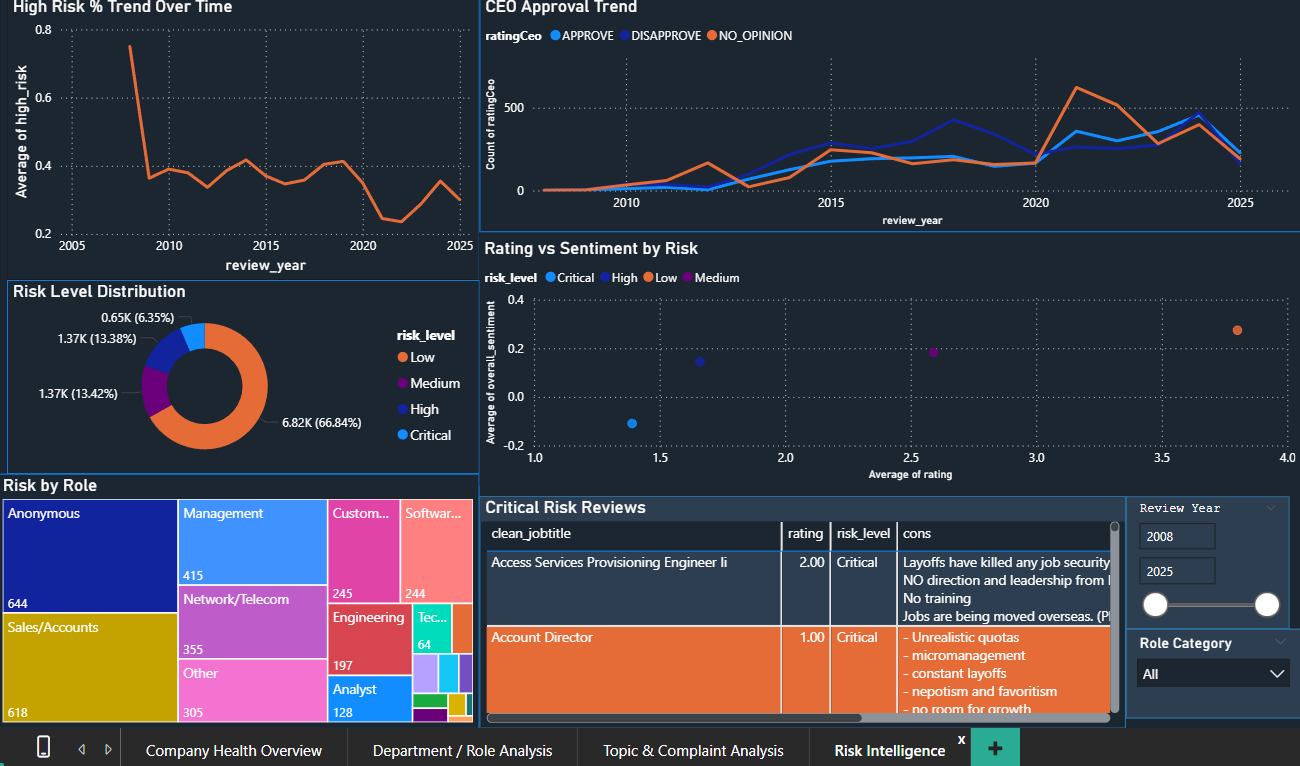

This screenshot's page, from the dashboard's own definition file:
{"tool":"powerbi","page":{"name":"Risk Intelligence","canvas":[1280,720],"ordinal":3},"visuals":[{"type":"lineChart","title":"High Risk % Trend Over Time ","fields":{"Category":["glassdoor_cleaned_for_powerbi.review_year"],"Y":["Avg(glassdoor_cleaned_for_powerbi.high_risk)"]},"box":[9.8,0,463.8,279.8],"z":0},{"type":"donutChart","title":"Risk Level Distribution","fields":{"Category":["glassdoor_cleaned_for_powerbi.risk_level"],"Y":["CountNonNull(glassdoor_cleaned_for_powerbi.risk_level)"]},"box":[9.8,279.8,463.8,190.2],"z":1000},{"type":"treemap","title":"Risk by Role","fields":{"Group":["glassdoor_cleaned_for_powerbi.role_category"],"Values":["Sum(glassdoor_cleaned_for_powerbi.high_risk)"]},"box":[0,469.9,473.6,250.3],"z":2000},{"type":"scatterChart","title":"Rating vs Sentiment by Risk","fields":{"X":["Avg(glassdoor_cleaned_for_powerbi.rating)"],"Y":["Avg(glassdoor_cleaned_for_powerbi.overall_sentiment)"],"Series":["glassdoor_cleaned_for_powerbi.risk_level"]},"box":[473.6,238,806.1,244.2],"z":3000},{"type":"lineChart","title":"CEO Approval Trend","fields":{"Category":["glassdoor_cleaned_for_powerbi.review_year"],"Y":["CountNonNull(glassdoor_cleaned_for_powerbi.ratingCeo)"],"Series":["glassdoor_cleaned_for_powerbi.ratingCeo"]},"box":[473.6,0,806.1,233.1],"z":3001},{"type":"tableEx","title":"Critical Risk Reviews","fields":{"Values":["glassdoor_cleaned_for_powerbi.clean_jobtitle","glassdoor_cleaned_for_powerbi.rating","glassdoor_cleaned_for_powerbi.risk_level","glassdoor_cleaned_for_powerbi.cons"]},"box":[473.6,492,634.4,228.2],"z":3002},{"type":"slicer","fields":{"Values":["glassdoor_cleaned_for_powerbi.review_year"]},"box":[1108,492,160.7,130.1],"z":3003},{"type":"slicer","fields":{"Values":["glassdoor_cleaned_for_powerbi.role_category"]},"box":[1108,622.1,171.8,88.3],"z":3004}]}

Visuals, with their boxes on the page's 1280x720 design canvas (x1, y1, x2, y2). These are canvas units, not pixel positions in the 1300x766 screenshot, which may show the page scaled, cropped or inside an application window:
"High Risk % Trend Over Time " lineChart: <box>10,0,474,280</box>
"Risk Level Distribution" donutChart: <box>10,280,474,470</box>
"Risk by Role" treemap: <box>0,470,474,720</box>
"Rating vs Sentiment by Risk" scatterChart: <box>474,238,1280,482</box>
"CEO Approval Trend" lineChart: <box>474,0,1280,233</box>
"Critical Risk Reviews" tableEx: <box>474,492,1108,720</box>
slicer - glassdoor_cleaned_for_powerbi.review_year: <box>1108,492,1269,622</box>
slicer - glassdoor_cleaned_for_powerbi.role_category: <box>1108,622,1280,710</box>
